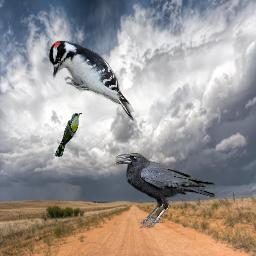Crow: (116, 153, 217, 228)
Cuckoo: (55, 113, 82, 157)
Woodpecker: (48, 39, 136, 123)
